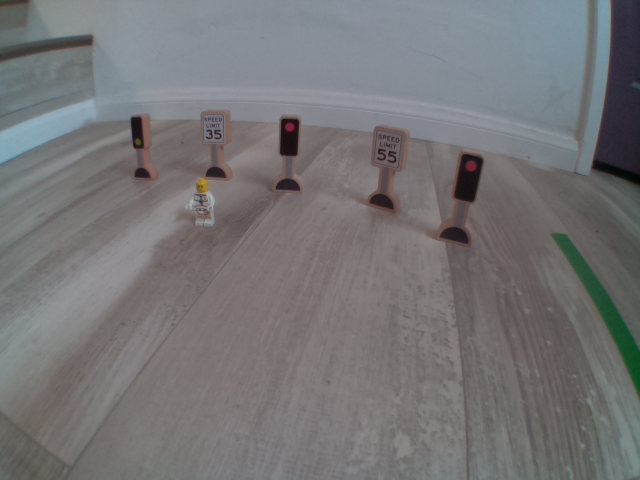Green Traffic Light: (124, 106, 156, 153)
Red Traffic Light: (446, 144, 489, 211), (271, 112, 310, 169)
Speed Limit 35: (199, 104, 232, 149)
Speed Limit 55: (371, 119, 405, 176)
person: (171, 173, 224, 233)
